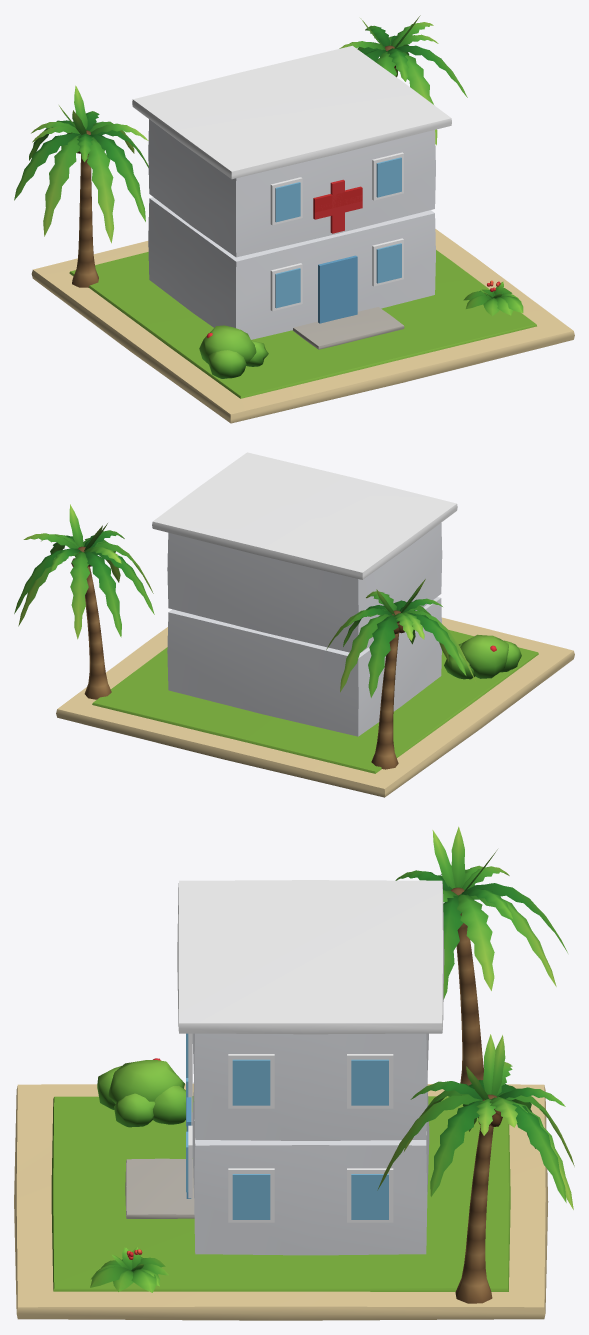
The model's file is Clinic.obj.
3 renders of one model, top to bottom at view 1: azimuth 30°, elevation 25°; view 2: azimuth 150°, elevation 25°; view 3: azimuth 270°, elevation 25°, orthographic. The views are drawn at different scales.
Parts seen in each view (by area): view 1: Clinic; view 2: Clinic; view 3: Clinic.
Boxes of the visible parts, x1,y1,x2,y2 form: Clinic: (14, 15, 574, 423); Clinic: (14, 452, 574, 797); Clinic: (14, 826, 574, 1320).
Size of the model in its own units: 4.6 by 2 by 3.78.
1 material, 1 textured.
